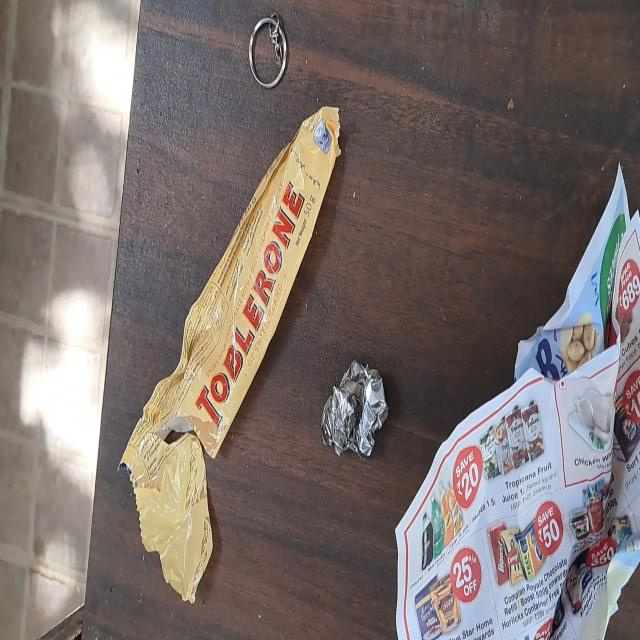Anorganik: (119, 103, 318, 602), (321, 357, 389, 460), (247, 11, 292, 87)
Organik: (396, 164, 640, 640)
